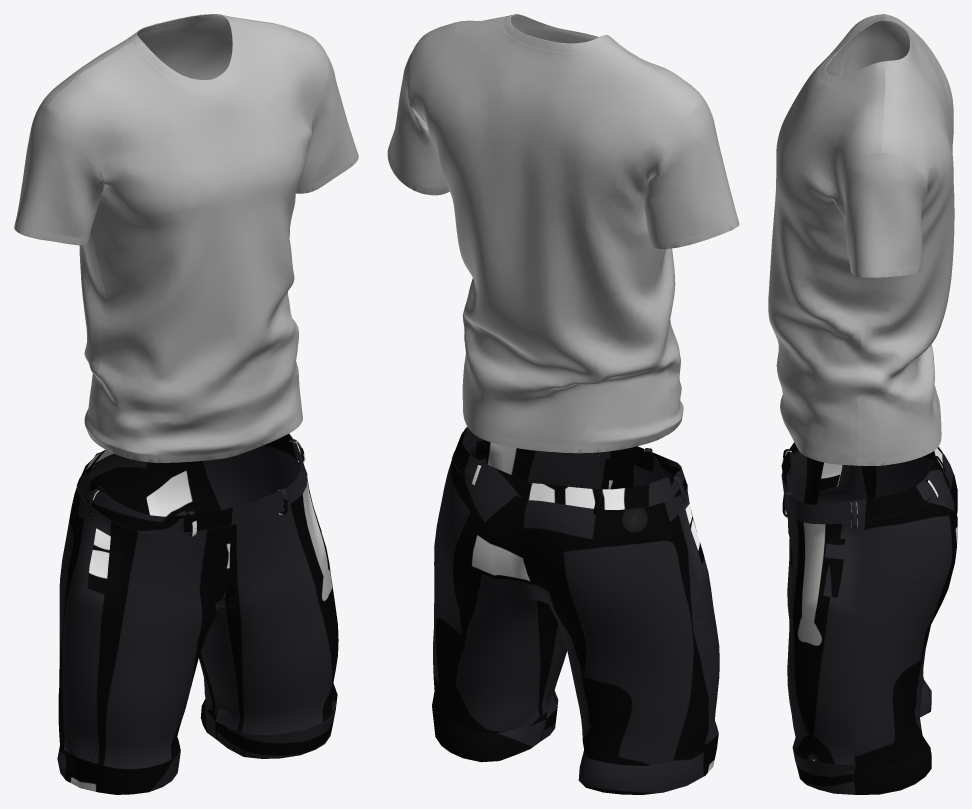
The model's file is tshirt_material_shorts.glb.
3 renders of one model, left to right at view 1: azimuth 30°, elevation 25°; view 2: azimuth 150°, elevation 25°; view 3: azimuth 270°, elevation 25°, orthographic. The views are drawn at different scales.
Parts seen in each view (by area): view 1: all, all_two; view 2: all, all_two; view 3: all, all_two.
Part boxes in pixels (box(x1,y1,x2,y2)): all: box(14, 14, 358, 462); all_two: box(57, 433, 338, 794); all: box(387, 14, 739, 453); all_two: box(432, 427, 719, 794); all: box(768, 14, 954, 465); all_two: box(781, 442, 957, 794).
Bounding box in the file's own units: 0.3416 × 0.6908 × 0.1699.
Materials: 2 (1 with a texture image).
